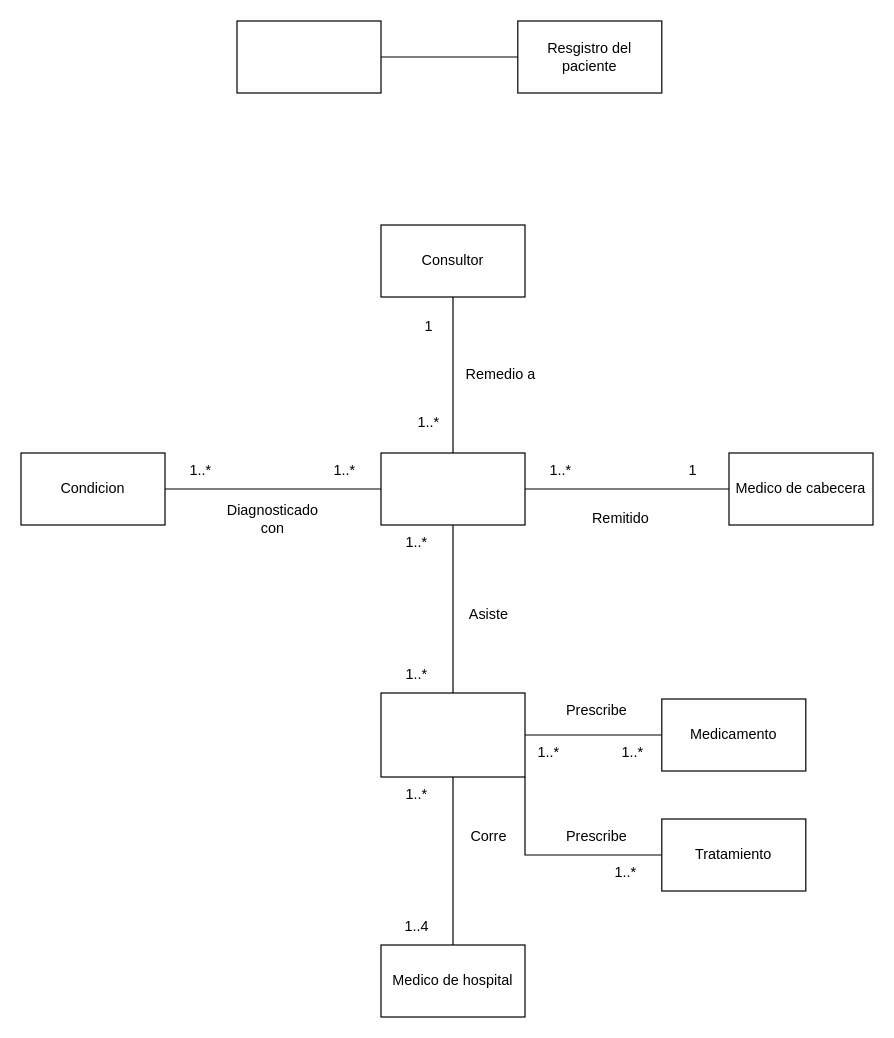
The diagram is 894 pixels wide and 1038 high, and some of its shapes have lost their labels. The shapes that lost their labels are listed below. From the top down, each one's centre as x and y in pixels, then its label:
[308,56]: Pciente
[452,488]: Paciente
[452,734]: Consulta
